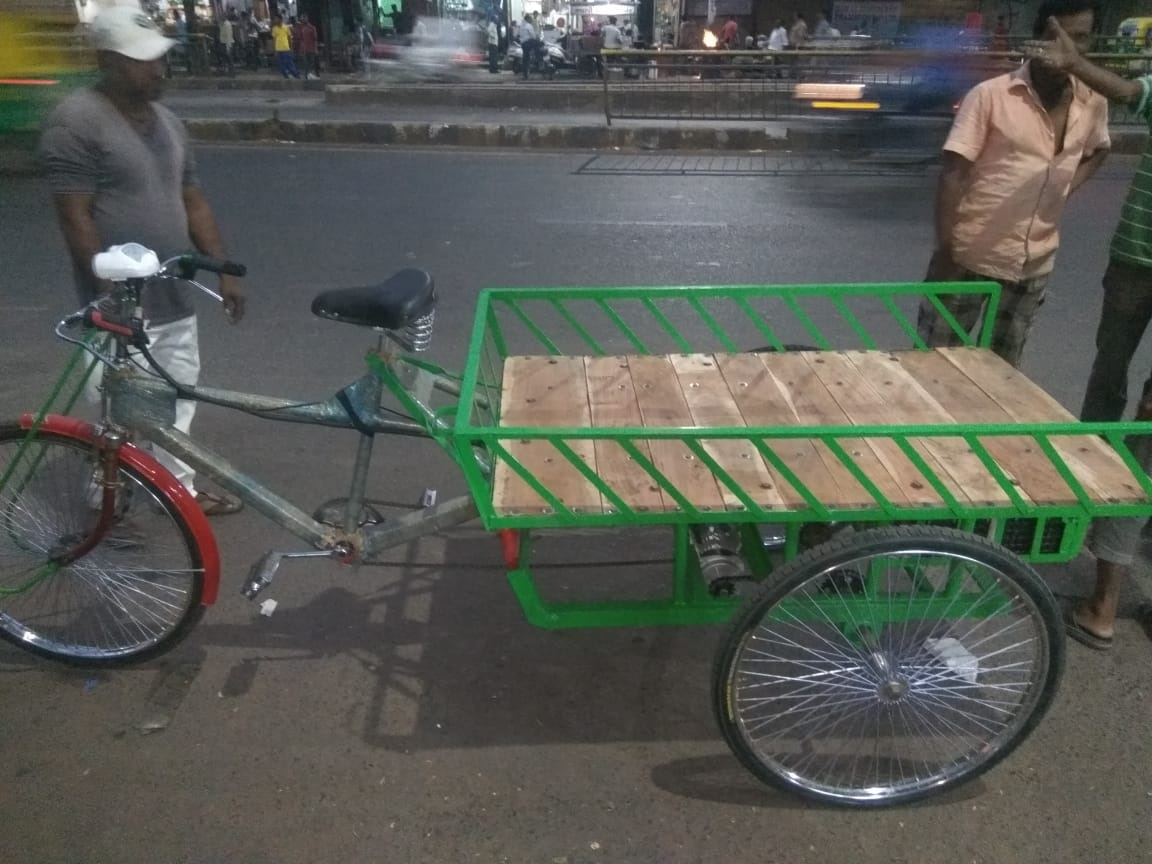handle bar: (48, 230, 246, 358)
seat: (308, 262, 442, 353)
wheel: (694, 509, 1094, 827), (1, 408, 230, 680)
